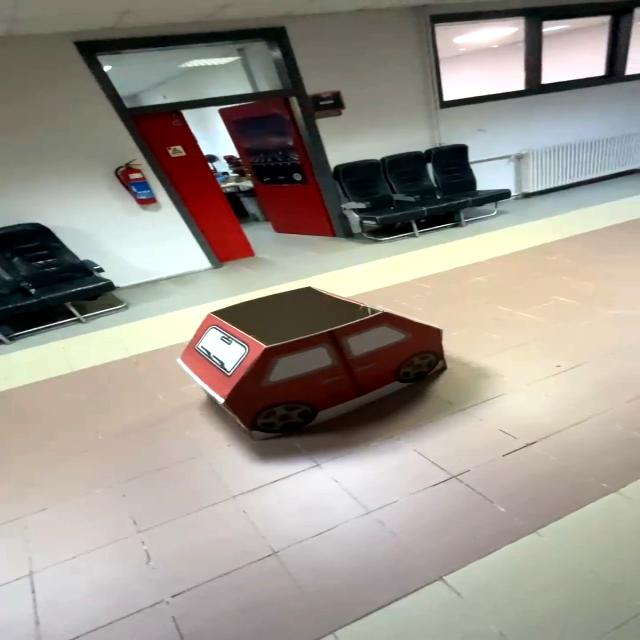red_car: (140, 278, 489, 450)
